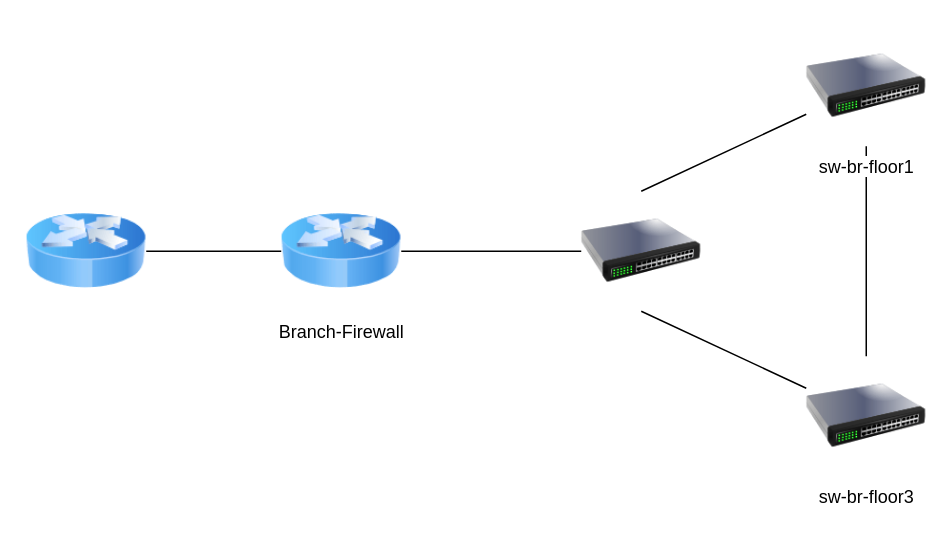
Some shapes in this 951 by 555 pixel diagram are drawn without their labels. Here are the shapes that lost their labels. From the top down, the box of each, then its label:
(26, 190, 146, 310): Branch-edge
(580, 190, 700, 310): sw-br-floor2
